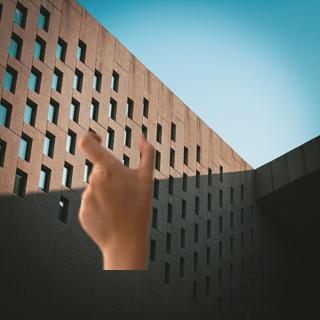Irritated: (73, 125, 161, 259)
